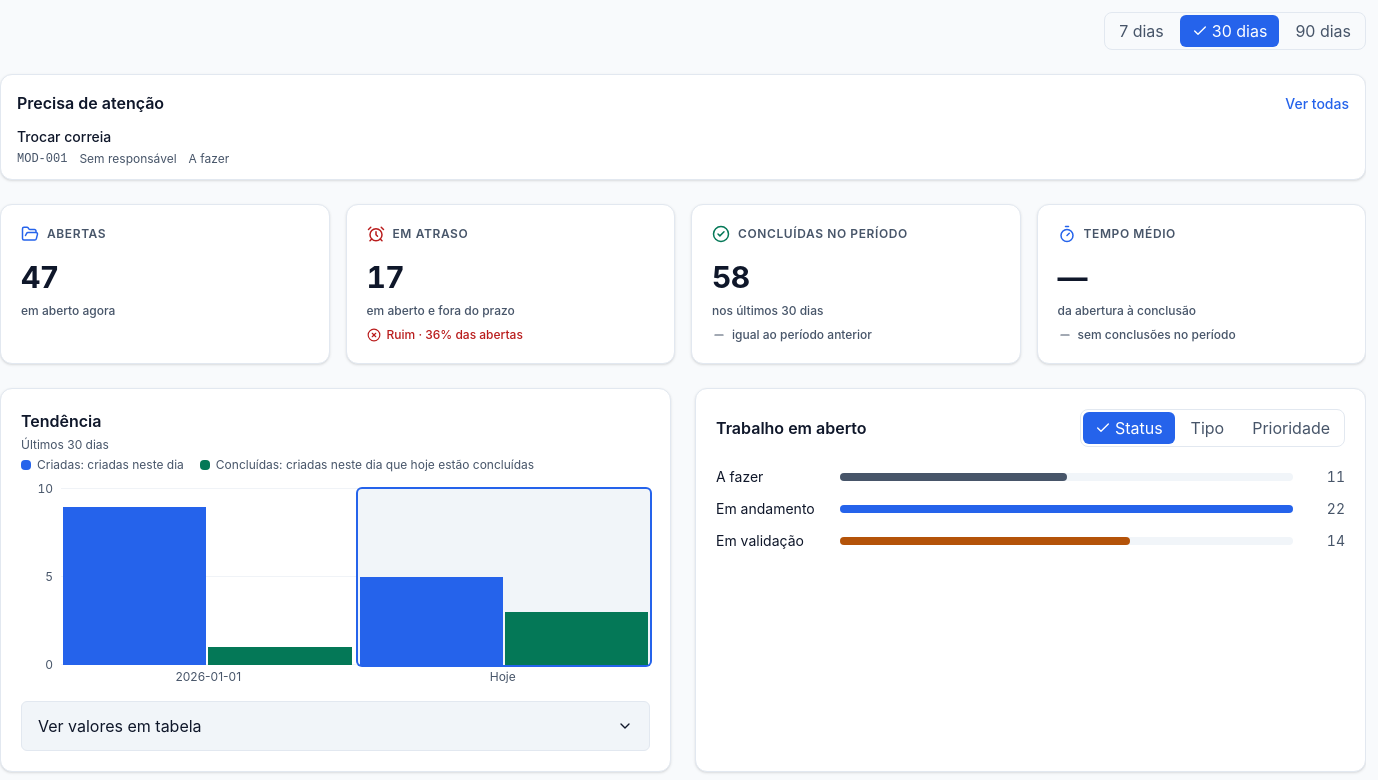
it: SolicitacoesTab — um período só para a tela › deve escrever o novo período no indicador de concluídas quando o usuário escolhe 7 dias
Check: the text "Trocar correia" is shown, box x1=17 y1=128 x2=111 y2=145
Check: the element "Tendência" is shown, box x1=0 y1=388 x2=671 y2=772
Step 1. Click the radio button labelled "7 dias" → click(1141, 31), box x1=1107 y1=15 x2=1176 y2=47
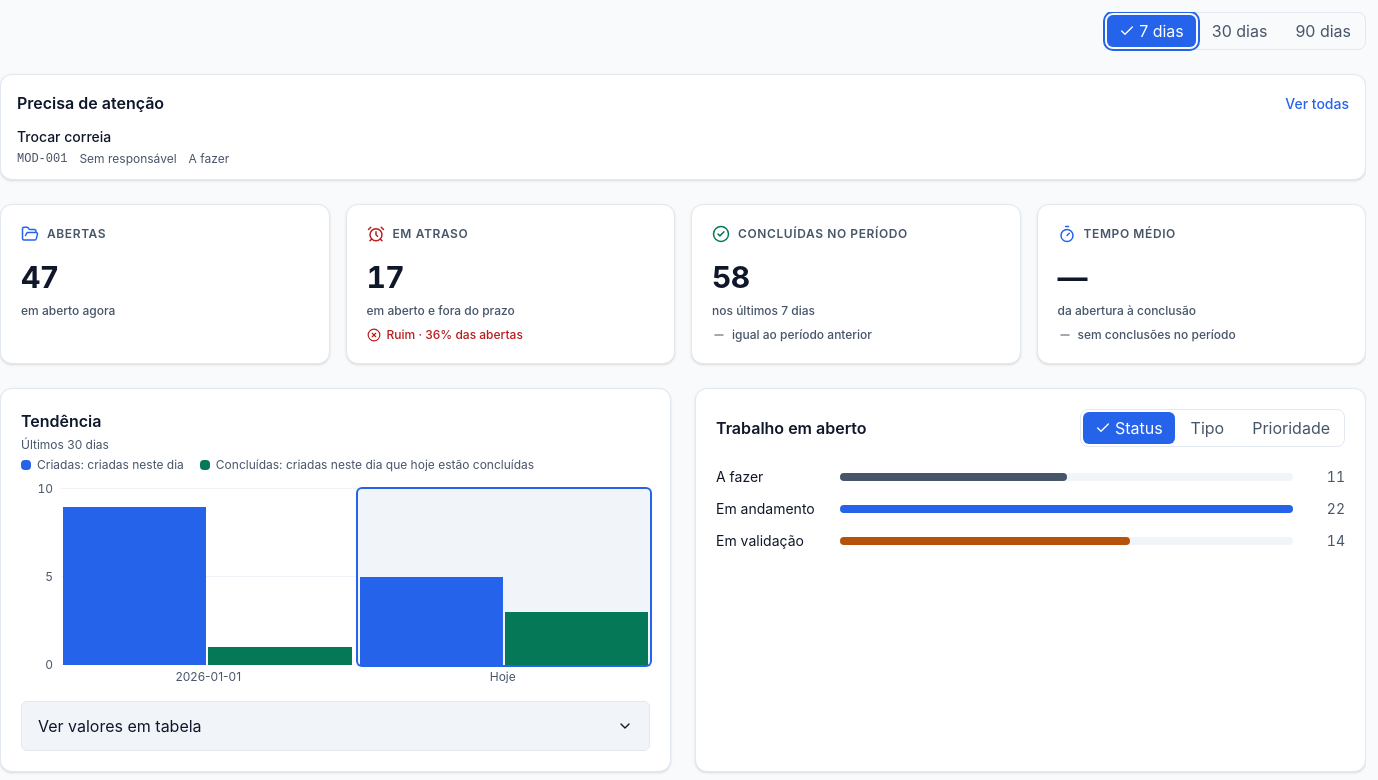
Check: the text "nos últimos 7 dias" is shown, box x1=712 y1=303 x2=815 y2=318
